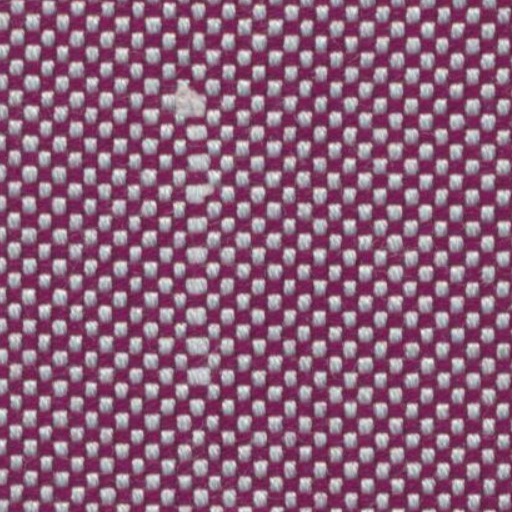DaiSha: (156, 74, 225, 406)
